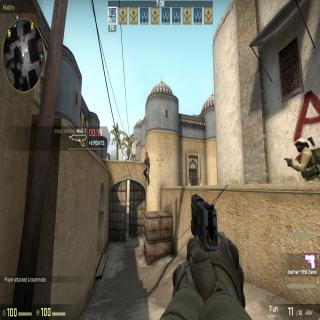CT-Body: (293, 137, 319, 182)
CT-Head: (294, 137, 309, 153)
T-Body: (143, 152, 150, 186)
T-Head: (145, 151, 148, 158)
